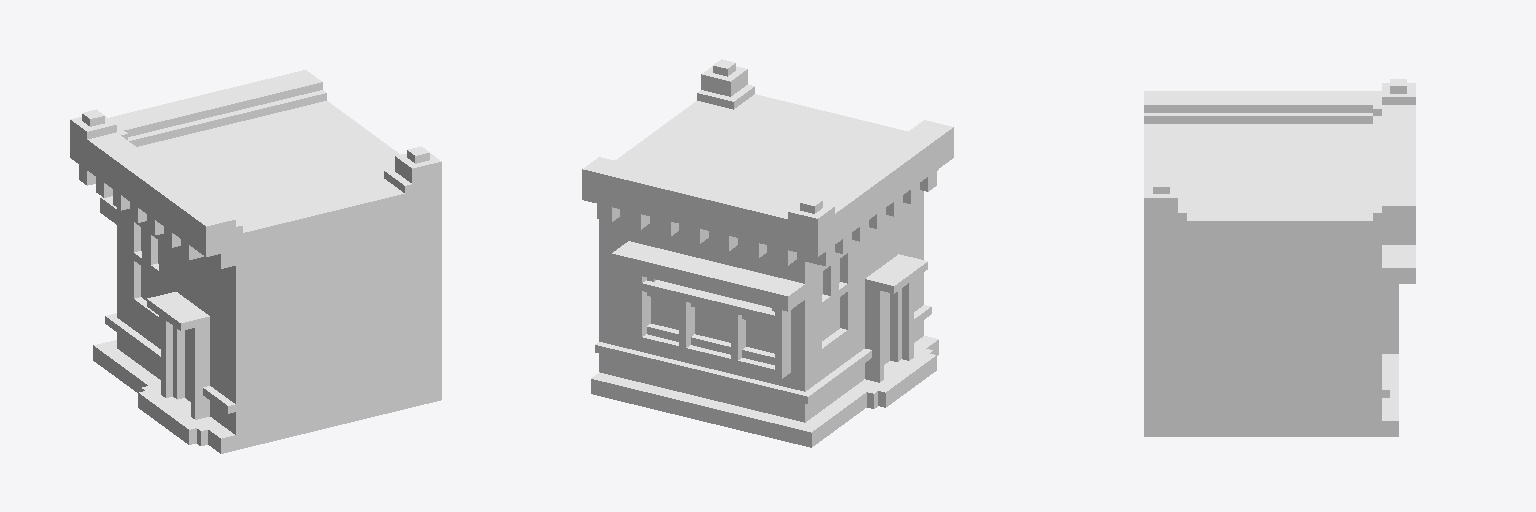
The model's file is tile_1_right_corner_90.obj.
The picture shows the model from 3 angles: view 1: azimuth 30°, elevation 25°; view 2: azimuth 150°, elevation 25°; view 3: azimuth 270°, elevation 25°; orthographic projection.
Visible parts, largest first — view 1: object 1; view 2: object 1; view 3: object 1.
Boxes of the visible parts, x1,y1,x2,y2 form: object 1: [70, 70, 441, 453]; object 1: [582, 59, 953, 447]; object 1: [1144, 79, 1415, 436].
Bounding box in the file's own units: 3.2 × 3.2 × 3.2.